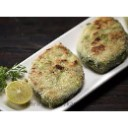seerfish: (29, 40, 84, 110), (79, 17, 127, 71)
